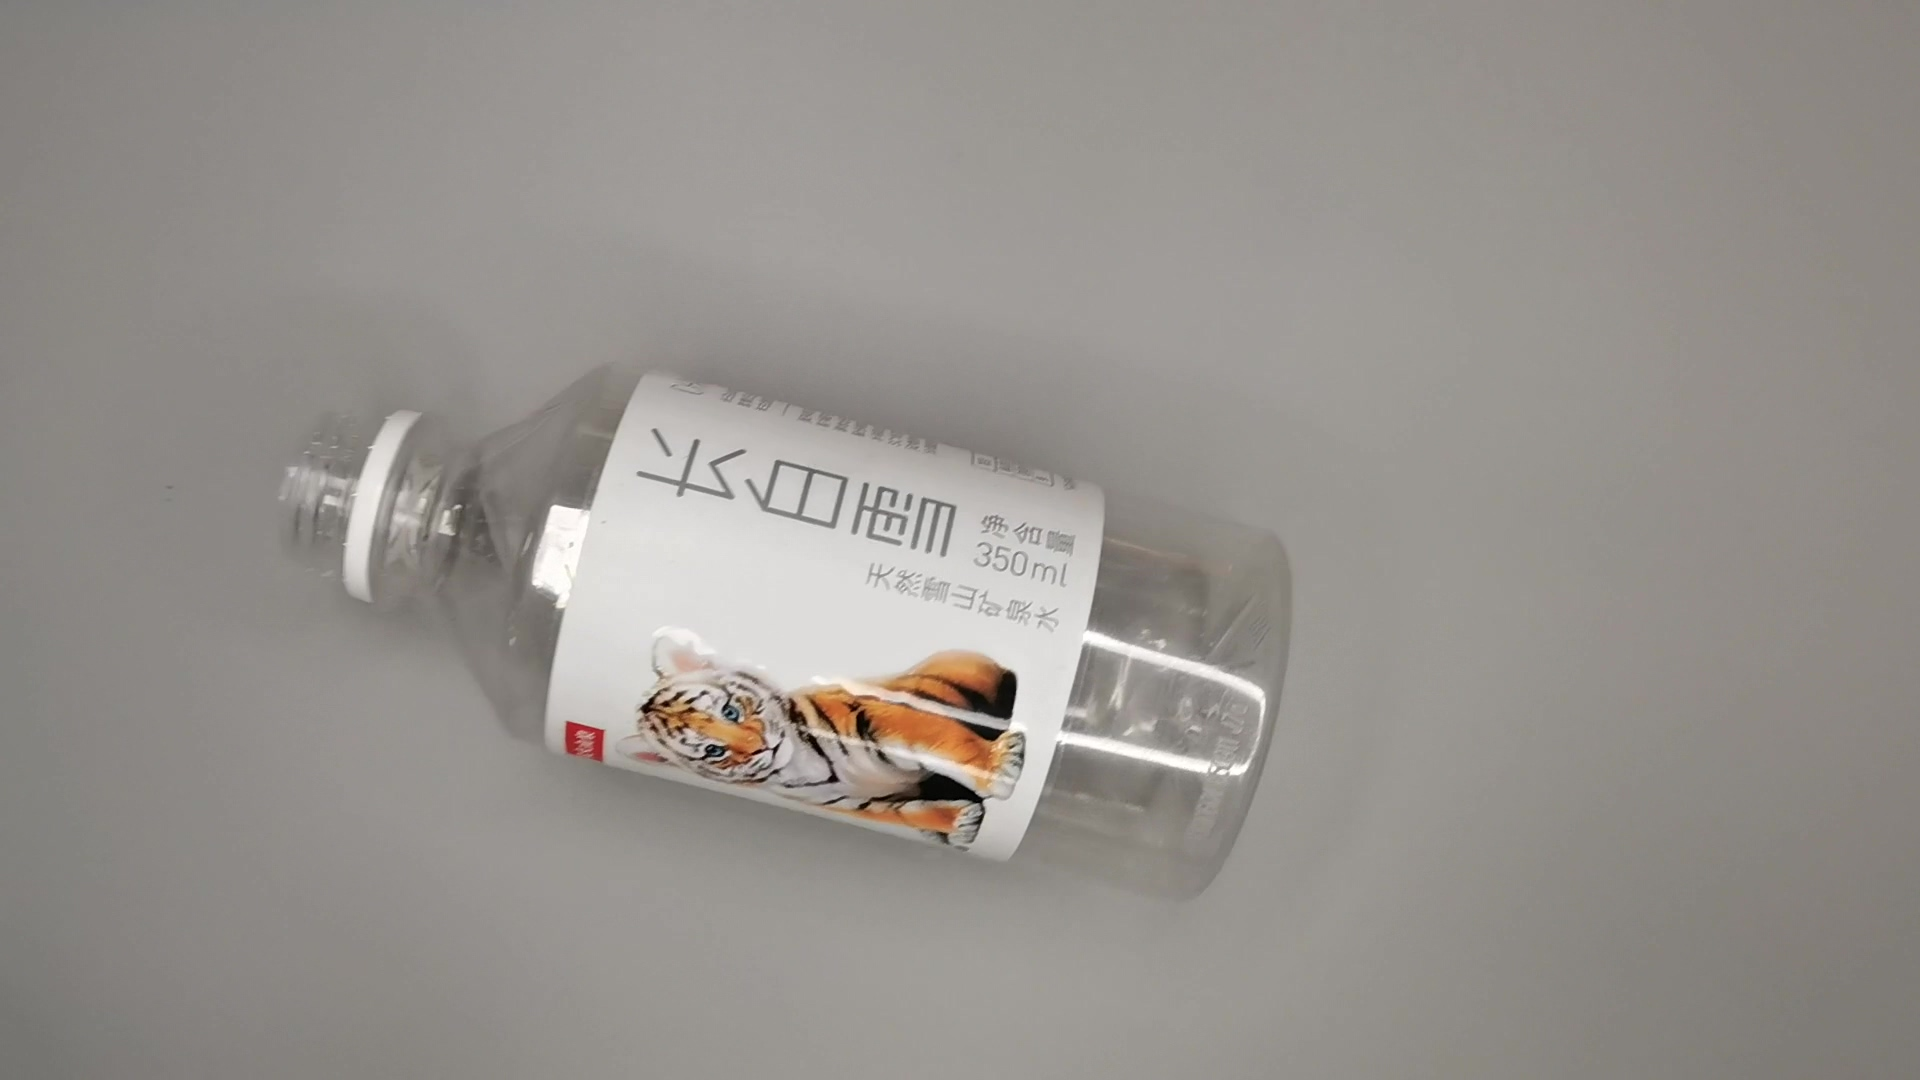bottle: (255, 349, 1299, 913)
